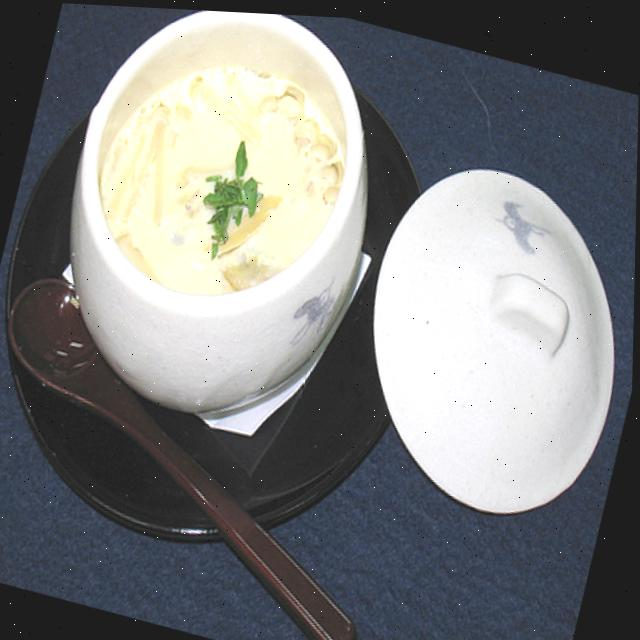鸡蛋料理: (42, 2, 396, 473)
